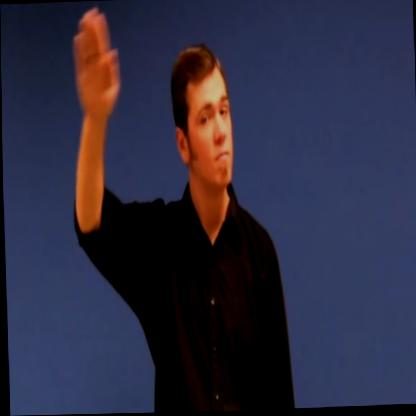Hello: (56, 0, 236, 246)
